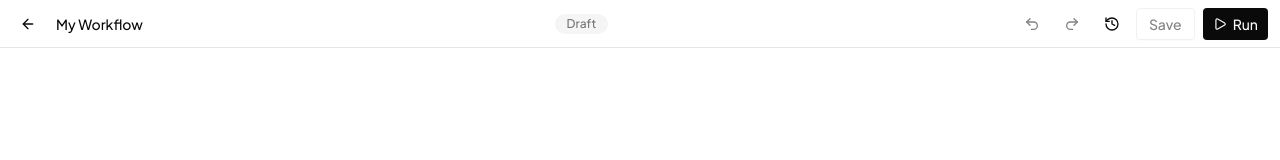
Scenario: CanvasToolbar › pressing Escape cancels the edit and restores the original name
The width and height of the screenshot is (1280, 160).
Click the button "My Workflow": (99, 24) [52,14,147,34]
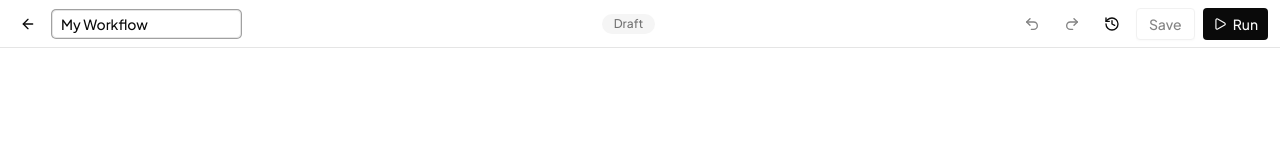
Replace the text in the field with "Changed": (146, 24) [52,10,241,38]
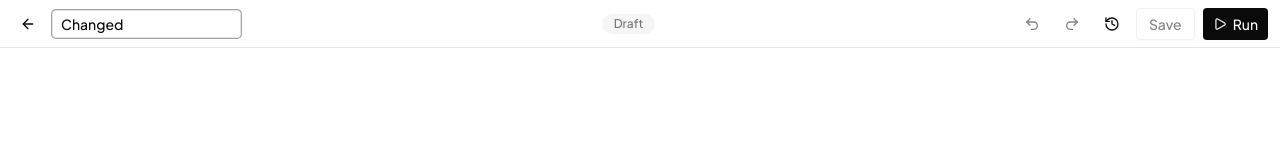
Press Escape
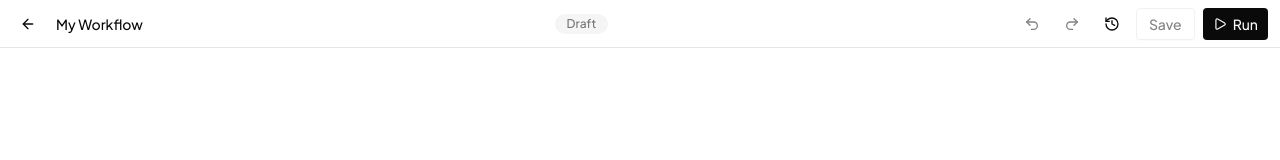
Expected: the field is gone
Expected: the text "My Workflow" is shown, [56,14,143,34]
